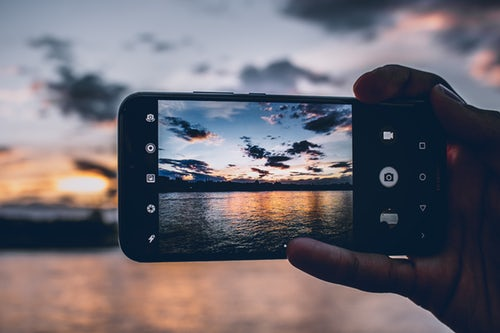phone: (113, 89, 453, 261)
